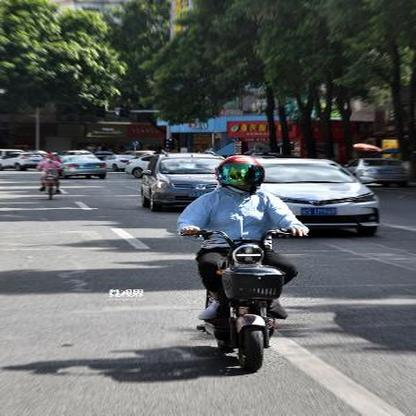target: (175, 154, 312, 373)
